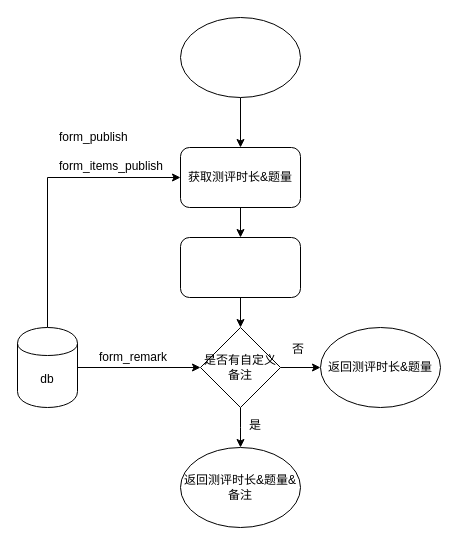
Image size: 458x545. Some labels were removed from this diagram. Here are the shapes that lost their labels. From the top down, the centre of each, then its label:
At (x=240, y=57): "考试须知".
At (x=240, y=267): "查询自定义备注".
